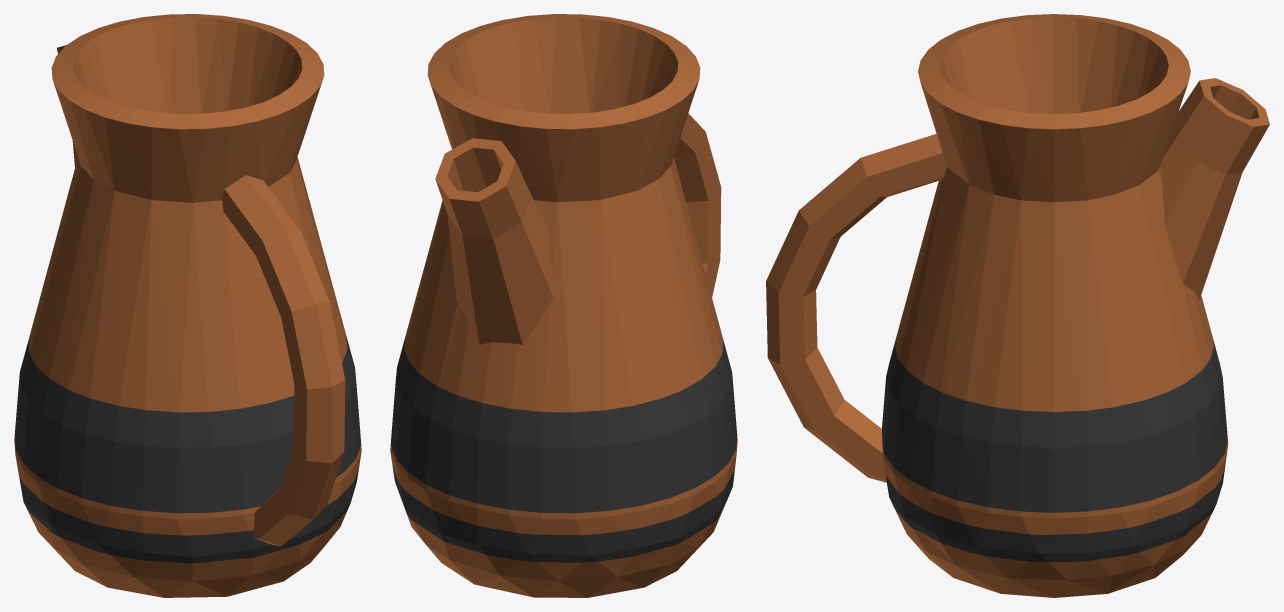
Rendered from Pottery 16_3b.fbx.
3 renders of one model, left to right at view 1: azimuth 30°, elevation 25°; view 2: azimuth 150°, elevation 25°; view 3: azimuth 270°, elevation 25°, orthographic.
Visible parts, largest first — view 1: Pottery 16_3b.007, Pottery 16_3b, Pottery 16_3b.003, Pottery 16_3b.002, Pottery 16_3b.004, Pottery 16_3b.001; view 2: Pottery 16_3b.002, Pottery 16_3b, Pottery 16_3b.003, Pottery 16_3b.007, Pottery 16_3b.004, Pottery 16_3b.001, Pottery 16_3b.006; view 3: Pottery 16_3b.004, Pottery 16_3b.001, Pottery 16_3b.007, Pottery 16_3b.002, Pottery 16_3b.006, Pottery 16_3b.003, Pottery 16_3b.
Part boxes in pixels (x1,y1,x2,y2): Pottery 16_3b.007: [91, 87, 345, 575]; Pottery 16_3b: [14, 342, 350, 597]; Pottery 16_3b.003: [20, 53, 117, 399]; Pottery 16_3b.002: [56, 14, 222, 167]; Pottery 16_3b.004: [272, 41, 361, 521]; Pottery 16_3b.001: [214, 16, 305, 112]; Pottery 16_3b.002: [401, 78, 600, 514]; Pottery 16_3b: [426, 304, 737, 597]; Pottery 16_3b.003: [582, 72, 708, 440]; Pottery 16_3b.007: [551, 14, 731, 371]; Pottery 16_3b.004: [446, 14, 556, 113]; Pottery 16_3b.001: [390, 41, 479, 449]; Pottery 16_3b.006: [390, 395, 449, 559]; Pottery 16_3b.004: [893, 92, 1054, 547]; Pottery 16_3b.001: [1054, 100, 1172, 516]; Pottery 16_3b.007: [766, 18, 1027, 533]; Pottery 16_3b.002: [1115, 31, 1269, 472]; Pottery 16_3b.006: [976, 427, 1224, 579]; Pottery 16_3b.003: [1003, 14, 1150, 113]; Pottery 16_3b: [905, 446, 1227, 597].
Size of the model in its own units: 30.34 by 45.97 by 43.99.
